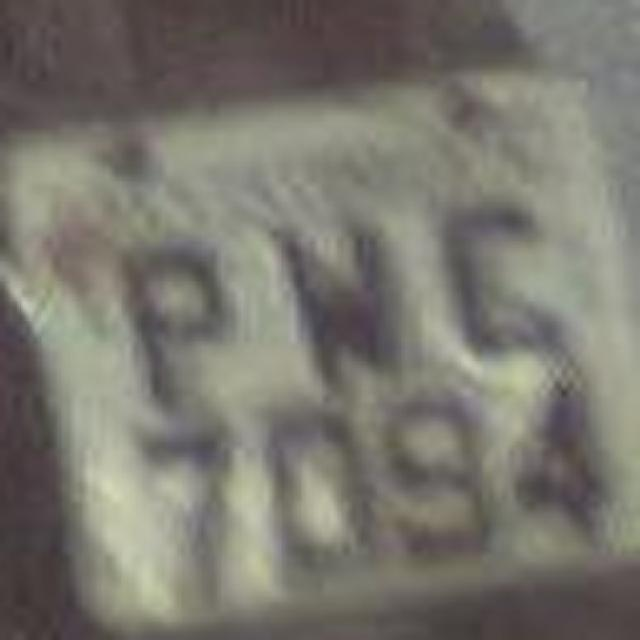0: (256, 392, 389, 588)
4: (504, 360, 631, 555)
7: (124, 409, 268, 616)
9: (368, 364, 508, 564)
N: (260, 191, 415, 404)
P: (116, 228, 236, 420)
Z: (429, 184, 576, 356)
